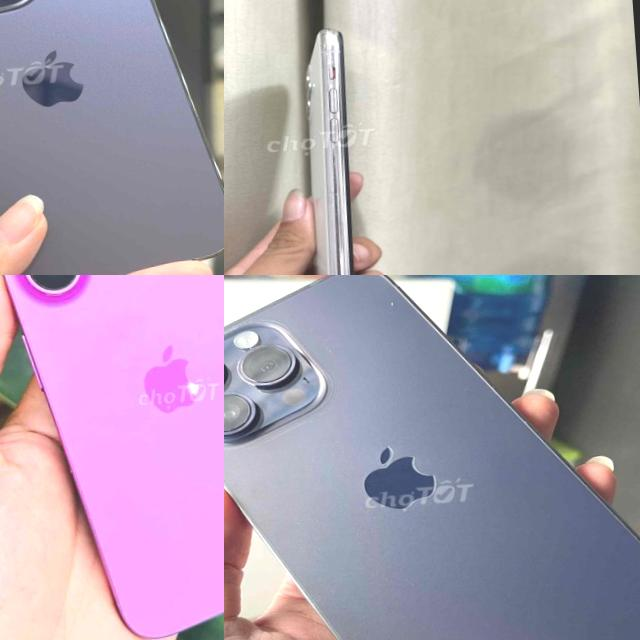scratch: (324, 74, 349, 191), (316, 21, 348, 76), (331, 225, 358, 275), (374, 286, 406, 324)
